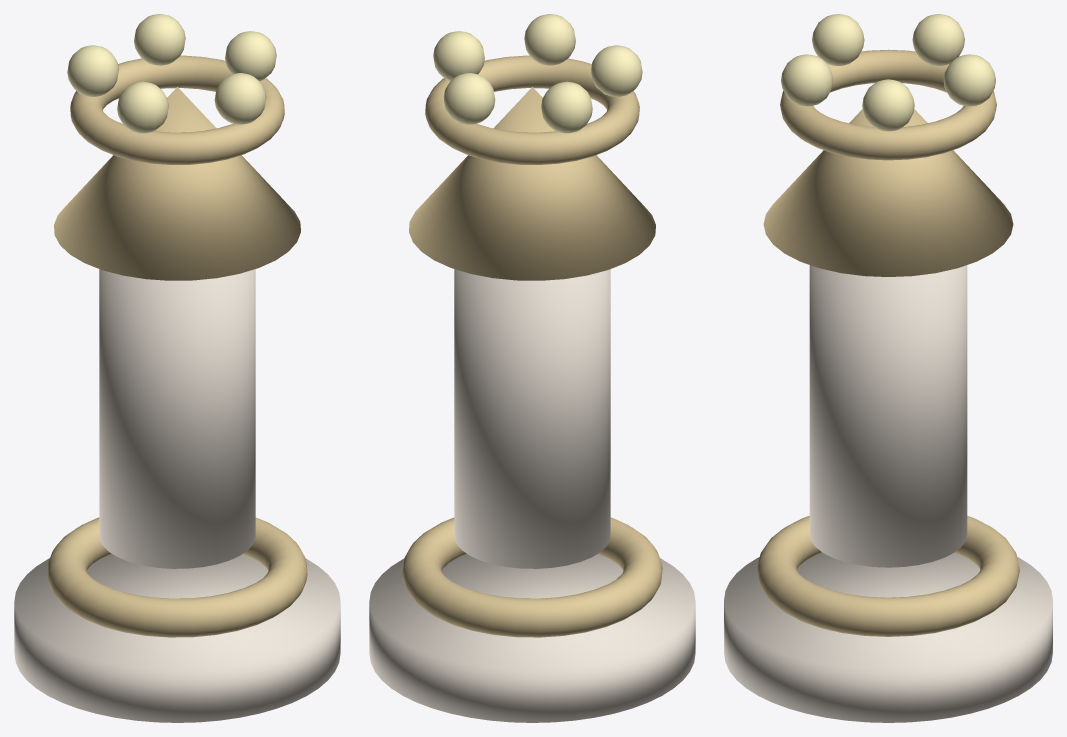
The model's file is queen.glb.
3 views of the same model, side by side, from view 1: azimuth 30°, elevation 25°; view 2: azimuth 150°, elevation 25°; view 3: azimuth 270°, elevation 25° (orthographic).
Parts seen in each view (by area): view 1: body, base, crown, collar, crown_ring, point_3, point_4, point_1, point_2, point_0; view 2: body, base, crown, collar, crown_ring, point_1, point_2, point_3, point_4, point_0; view 3: body, base, crown, collar, crown_ring, point_0, point_1, point_4, point_2, point_3.
Part boxes in pixels (x1,y1,x2,y2): body: (99, 269, 255, 568); base: (14, 554, 340, 722); crown: (54, 87, 300, 280); collar: (47, 517, 307, 637); crown_ring: (70, 55, 284, 164); point_3: (117, 81, 168, 133); point_4: (214, 73, 266, 124); point_1: (134, 14, 185, 65); point_2: (67, 45, 118, 96); point_0: (225, 31, 276, 81); body: (454, 269, 610, 568); base: (369, 554, 695, 722); crown: (409, 87, 655, 280); collar: (402, 517, 662, 637); crown_ring: (425, 55, 639, 164); point_1: (443, 73, 495, 124); point_2: (541, 81, 592, 133); point_3: (591, 45, 642, 96); point_4: (524, 14, 575, 65); point_0: (433, 31, 484, 81); body: (809, 265, 967, 567); base: (724, 553, 1052, 722); crown: (763, 109, 1013, 276); collar: (757, 516, 1019, 636); crown_ring: (780, 49, 996, 160); point_0: (862, 79, 914, 131); point_1: (943, 54, 995, 106); point_4: (781, 54, 833, 106); point_2: (912, 14, 964, 66); point_3: (812, 14, 864, 66).
Size of the model in its own units: 0.5 by 1.02 by 0.5.
